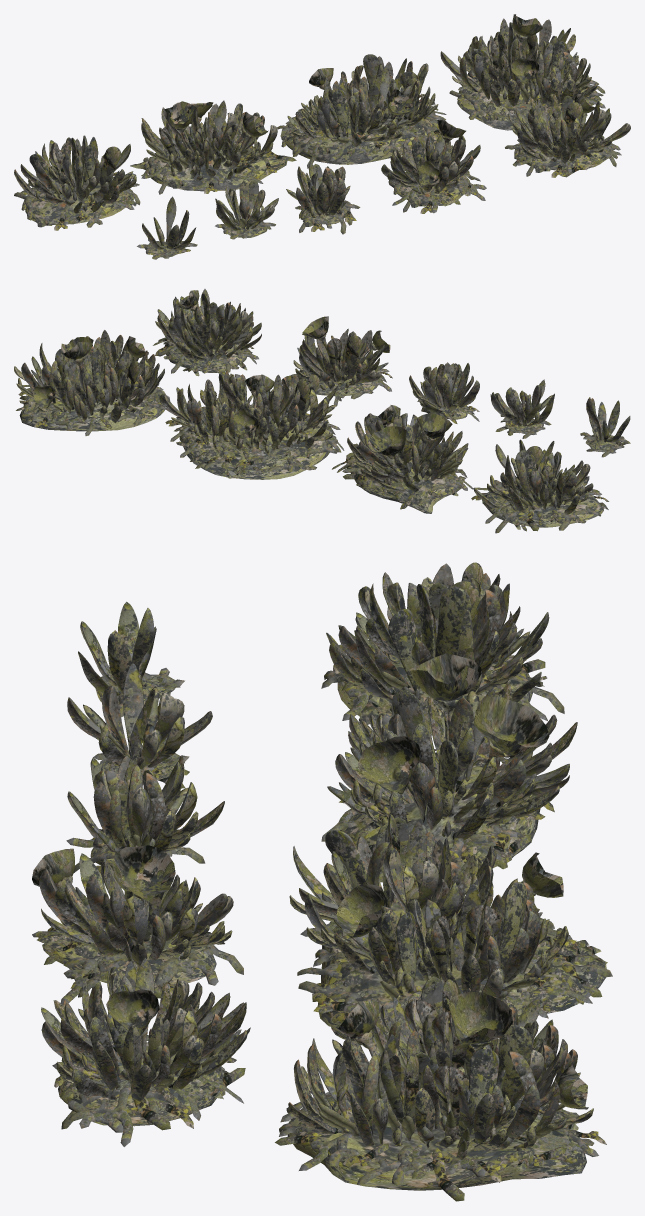
File: cheiridopsis_succulent.gltf
3 renders of one model, top to bottom at view 1: azimuth 30°, elevation 25°; view 2: azimuth 150°, elevation 25°; view 3: azimuth 270°, elevation 25°, orthographic. The views are drawn at different scales.
Parts seen in each view (by area): view 1: cheiridopsis_succulent_h_LOD0, cheiridopsis_succulent_i_LOD0, cheiridopsis_succulent_g_LOD0, cheiridopsis_succulent_f_LOD0, cheiridopsis_succulent_e_LOD0, cheiridopsis_succulent_d_LOD0, cheiridopsis_succulent_c_LOD0, cheiridopsis_succulent_b_LOD0, cheiridopsis_succulent_a_LOD0; view 2: cheiridopsis_succulent_h_LOD0, cheiridopsis_succulent_i_LOD0, cheiridopsis_succulent_g_LOD0, cheiridopsis_succulent_f_LOD0, cheiridopsis_succulent_e_LOD0, cheiridopsis_succulent_d_LOD0, cheiridopsis_succulent_c_LOD0, cheiridopsis_succulent_b_LOD0, cheiridopsis_succulent_a_LOD0; view 3: cheiridopsis_succulent_i_LOD0, cheiridopsis_succulent_h_LOD0, cheiridopsis_succulent_g_LOD0, cheiridopsis_succulent_e_LOD0, cheiridopsis_succulent_d_LOD0, cheiridopsis_succulent_f_LOD0, cheiridopsis_succulent_c_LOD0, cheiridopsis_succulent_b_LOD0, cheiridopsis_succulent_a_LOD0.
Part boxes in pixels (left/top/right/bottom): cheiridopsis_succulent_h_LOD0: left=277, top=54, right=446, bottom=168; cheiridopsis_succulent_i_LOD0: left=440, top=14, right=605, bottom=130; cheiridopsis_succulent_g_LOD0: left=130, top=100, right=296, bottom=194; cheiridopsis_succulent_f_LOD0: left=14, top=135, right=140, bottom=230; cheiridopsis_succulent_e_LOD0: left=505, top=93, right=630, bottom=177; cheiridopsis_succulent_d_LOD0: left=381, top=120, right=486, bottom=213; cheiridopsis_succulent_c_LOD0: left=286, top=162, right=360, bottom=234; cheiridopsis_succulent_b_LOD0: left=215, top=180, right=278, bottom=239; cheiridopsis_succulent_a_LOD0: left=137, top=196, right=197, bottom=259; cheiridopsis_succulent_h_LOD0: left=159, top=370, right=344, bottom=479; cheiridopsis_succulent_i_LOD0: left=14, top=330, right=170, bottom=435; cheiridopsis_succulent_g_LOD0: left=332, top=405, right=473, bottom=513; cheiridopsis_succulent_f_LOD0: left=471, top=439, right=608, bottom=533; cheiridopsis_succulent_e_LOD0: left=153, top=289, right=261, bottom=376; cheiridopsis_succulent_d_LOD0: left=285, top=316, right=392, bottom=406; cheiridopsis_succulent_c_LOD0: left=409, top=362, right=479, bottom=423; cheiridopsis_succulent_b_LOD0: left=490, top=379, right=554, bottom=438; cheiridopsis_succulent_a_LOD0: left=580, top=397, right=630, bottom=457; cheiridopsis_succulent_i_LOD0: left=275, top=976, right=606, bottom=1201; cheiridopsis_succulent_h_LOD0: left=289, top=814, right=612, bottom=1027; cheiridopsis_succulent_g_LOD0: left=321, top=653, right=577, bottom=894; cheiridopsis_succulent_e_LOD0: left=41, top=957, right=250, bottom=1146; cheiridopsis_succulent_d_LOD0: left=32, top=840, right=243, bottom=1004; cheiridopsis_succulent_f_LOD0: left=321, top=562, right=564, bottom=735; cheiridopsis_succulent_c_LOD0: left=66, top=749, right=224, bottom=882; cheiridopsis_succulent_b_LOD0: left=67, top=663, right=212, bottom=788; cheiridopsis_succulent_a_LOD0: left=78, top=601, right=184, bottom=716.
Size of the model in its own units: 2.16 by 0.2708 by 0.9586.
